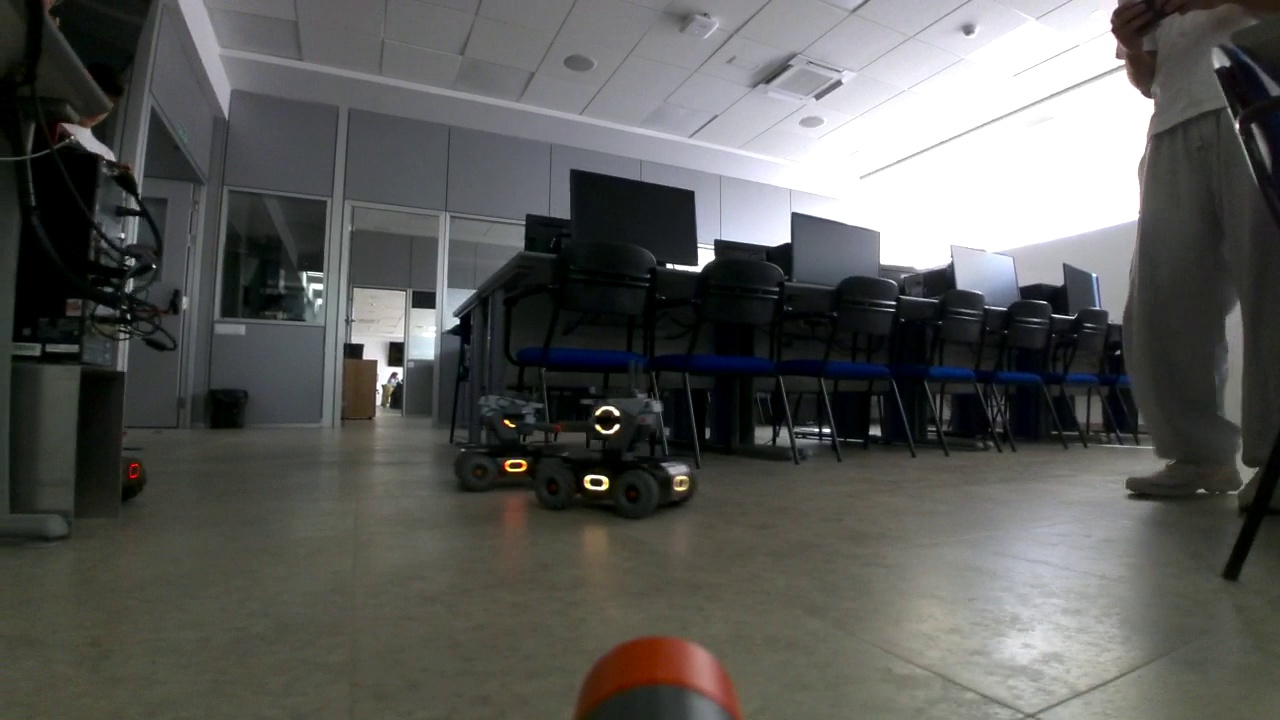robot: (532, 363, 698, 516), (453, 382, 568, 492)
